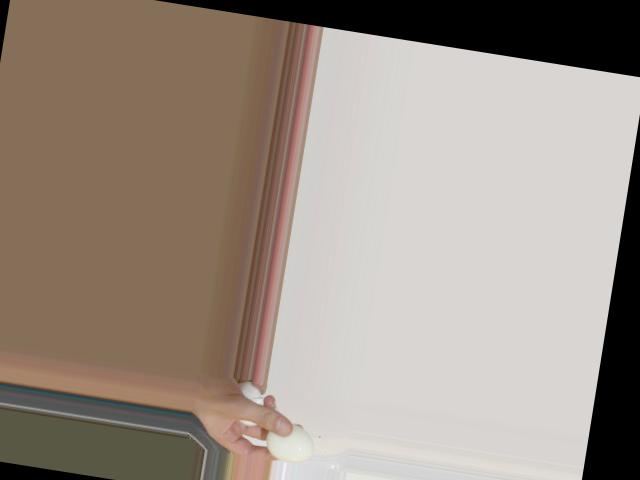egg: (263, 419, 316, 466)
